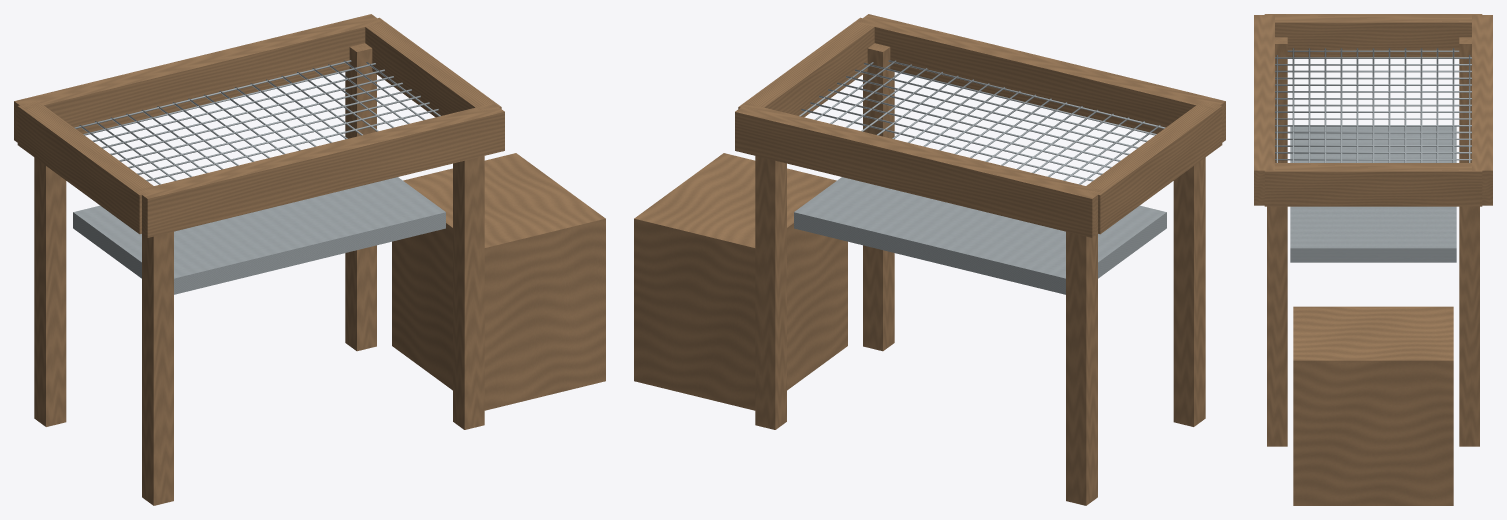
The model's file is sieve.glb.
The picture shows the model from 3 angles, left to right: view 1: azimuth 30°, elevation 25°; view 2: azimuth 150°, elevation 25°; view 3: azimuth 270°, elevation 25°; orthographic projection. The views are drawn at different scales.
Parts seen in each view (by area): view 1: tailings crate, collection tray, sieve long rim, sieve long rim.001, screen leg, screen leg.002, screen leg.001, sieve end rim, sieve end rim.001, screen leg.003, screen wire.028, screen wire.032 (+7 smaller); view 2: tailings crate, collection tray, sieve long rim.001, sieve long rim, screen leg.001, screen leg.003, screen leg, sieve end rim, sieve end rim.001, screen leg.002, screen wire.026, screen wire.022 (+7 smaller); view 3: tailings crate, collection tray, sieve end rim.001, sieve end rim, screen leg.002, screen leg.003, sieve long rim, sieve long rim.001, screen leg, screen leg.001, screen wire.008, screen wire.012 (+26 smaller).
Part boxes in pixels (x1=…): tailings crate: x1=392, y1=153, x2=605, y2=410; collection tray: x1=73, y1=177, x2=445, y2=294; sieve long rim: x1=136, y1=103, x2=504, y2=237; sieve long rim.001: x1=14, y1=14, x2=382, y2=142; screen leg: x1=142, y1=231, x2=173, y2=505; screen leg.002: x1=453, y1=156, x2=484, y2=429; screen leg.001: x1=34, y1=157, x2=66, y2=426; sieve end rim: x1=17, y1=101, x2=157, y2=234; sieve end rim.001: x1=362, y1=17, x2=501, y2=117; screen leg.003: x1=345, y1=43, x2=376, y2=351; screen wire.028: x1=119, y1=89, x2=411, y2=161; screen wire.032: x1=83, y1=63, x2=375, y2=135; tailings crate: x1=634, y1=153, x2=847, y2=410; collection tray: x1=794, y1=177, x2=1166, y2=294; sieve long rim.001: x1=735, y1=103, x2=1102, y2=237; sieve long rim: x1=857, y1=14, x2=1225, y2=142; screen leg.001: x1=1066, y1=231, x2=1097, y2=505; screen leg.003: x1=755, y1=156, x2=786, y2=429; screen leg: x1=1173, y1=157, x2=1205, y2=426; sieve end rim: x1=1082, y1=101, x2=1222, y2=234; sieve end rim.001: x1=738, y1=17, x2=878, y2=117; screen leg.002: x1=863, y1=43, x2=894, y2=351; screen wire.026: x1=828, y1=89, x2=1120, y2=161; screen wire.022: x1=864, y1=63, x2=1156, y2=135; tailings crate: x1=1293, y1=306, x2=1453, y2=505; collection tray: x1=1290, y1=126, x2=1456, y2=262; sieve end rim.001: x1=1264, y1=163, x2=1482, y2=206; sieve end rim: x1=1264, y1=14, x2=1482, y2=57; screen leg.002: x1=1267, y1=206, x2=1287, y2=446; screen leg.003: x1=1459, y1=206, x2=1479, y2=446; sieve long rim: x1=1254, y1=15, x2=1274, y2=205; sieve long rim.001: x1=1472, y1=15, x2=1492, y2=205; screen leg: x1=1275, y1=37, x2=1287, y2=162; screen leg.001: x1=1459, y1=37, x2=1471, y2=162; screen wire.008: x1=1275, y1=104, x2=1471, y2=106; screen wire.012: x1=1275, y1=131, x2=1471, y2=133.
Size of the model in its own units: 1.55 by 0.97 by 0.745.
2 materials, 2 textured.
